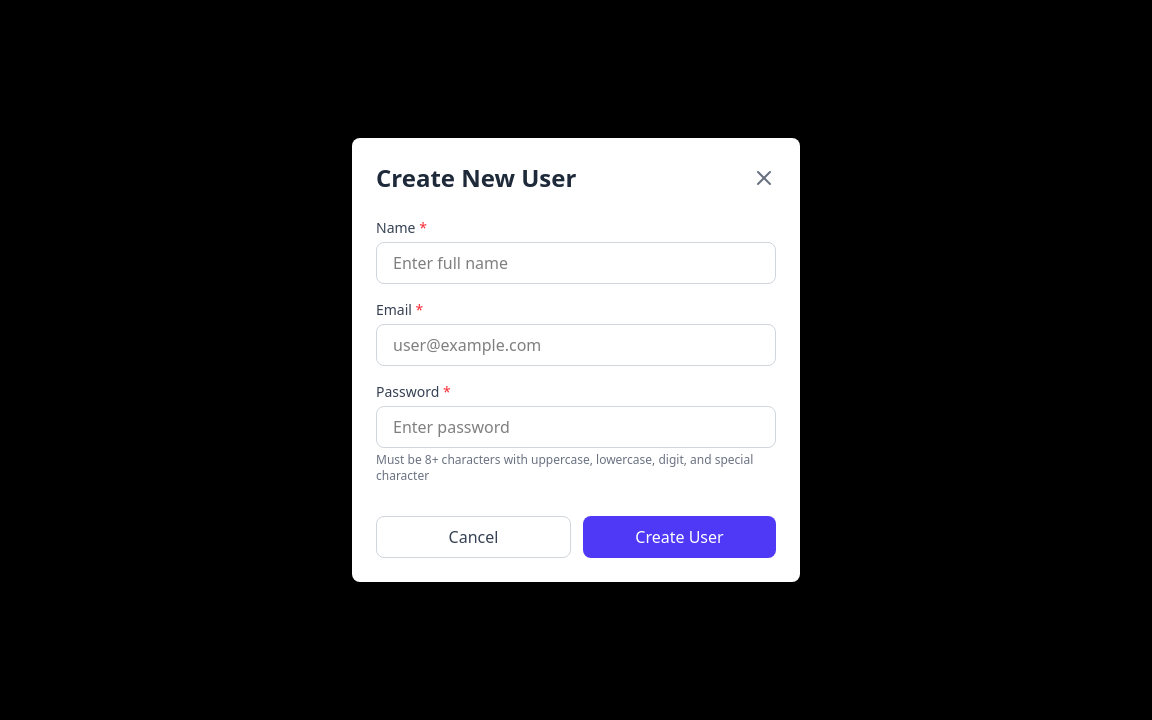
UserModal Component › should clear validation errors when typing
This screenshot has width=1152, height=720.
// Trigger validation error
Click the button "Create User" at {"x": 680, "y": 537}, box left=583, top=516, right=776, bottom=558
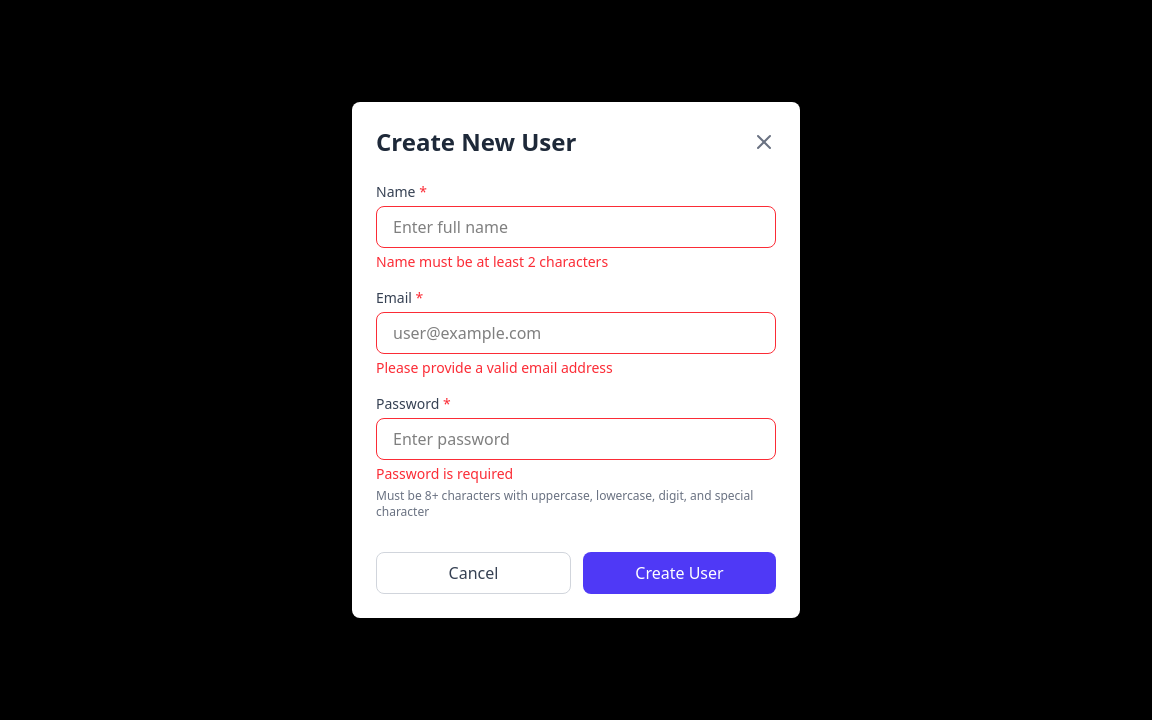
expect the text "Name must be at least 2 characters" is shown: met, box left=376, top=252, right=608, bottom=271
// Type to clear error
Type "John Doe" into the field labelled "Name *" at {"x": 576, "y": 227}, box left=376, top=206, right=776, bottom=248
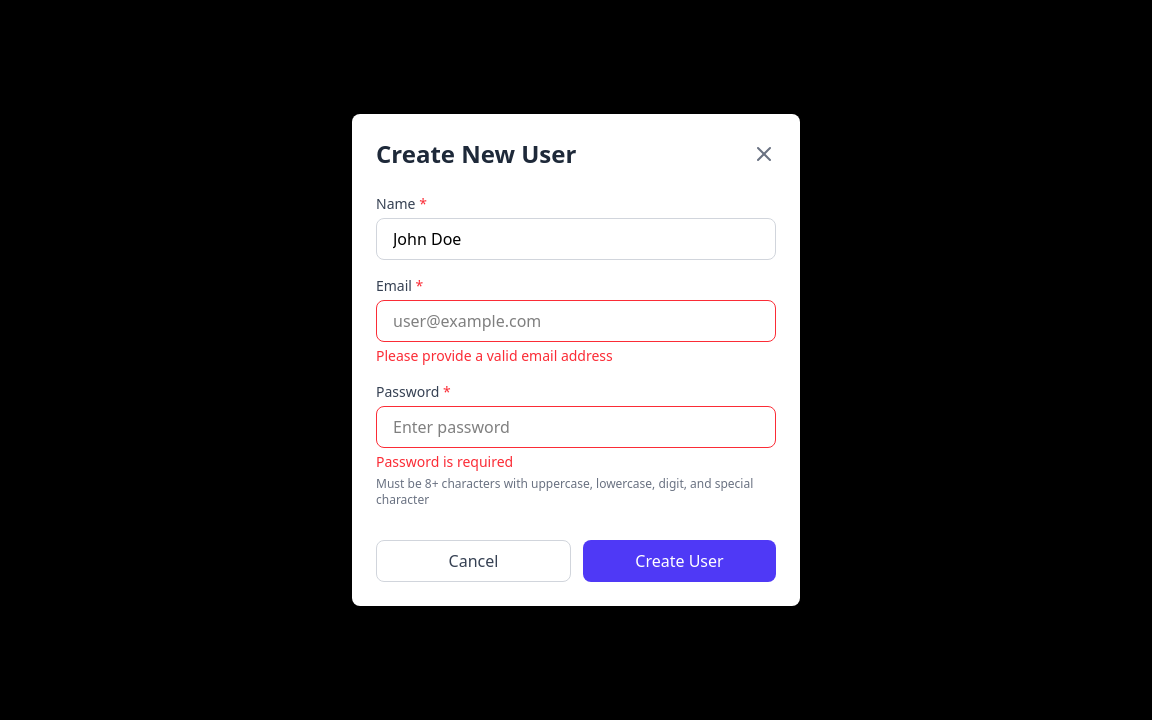
expect the text "Name must be at least 2 characters" is gone: met
